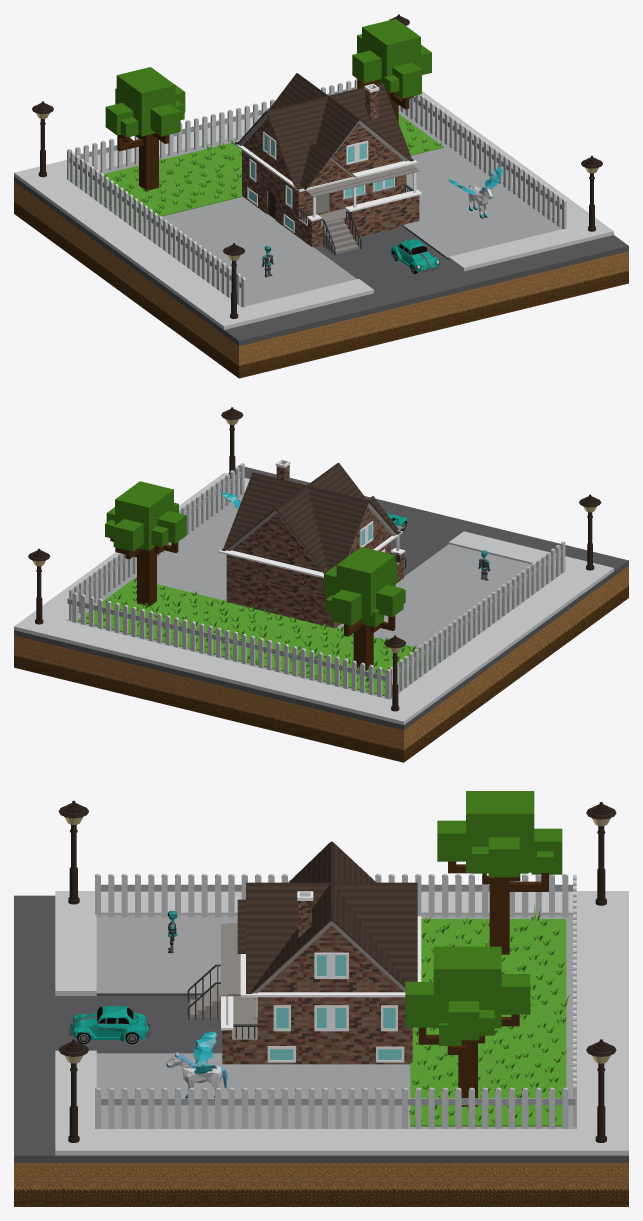
3 renders of one model, top to bottom at view 1: azimuth 30°, elevation 25°; view 2: azimuth 150°, elevation 25°; view 3: azimuth 270°, elevation 25°, orthographic. The views are drawn at different scales.
Parts seen in each view (by area): view 1: Cube.004, Cube.117, VEHICLES_VOLKSWAGEN, ANIMAL_PEGASO; view 2: Cube.004, Cube.117; view 3: Cube.004, Cube.117, VEHICLES_VOLKSWAGEN, ANIMAL_PEGASO.
Part boxes in pixels (left/top/right/bottom): Cube.004: left=14, top=14, right=628, bottom=378; Cube.117: left=233, top=73, right=421, bottom=255; VEHICLES_VOLKSWAGEN: left=390, top=239, right=439, bottom=273; ANIMAL_PEGASO: left=448, top=167, right=502, bottom=218; Cube.004: left=14, top=407, right=628, bottom=762; Cube.117: left=218, top=459, right=406, bottom=627; Cube.004: left=14, top=791, right=628, bottom=1206; Cube.117: left=187, top=841, right=421, bottom=1064; VEHICLES_VOLKSWAGEN: left=69, top=1006, right=151, bottom=1044; ANIMAL_PEGASO: left=166, top=1031, right=227, bottom=1098.
Bounding box in the file's own units: 4000 × 1601 × 4000.
Materials: 41 (4 with a texture image).
